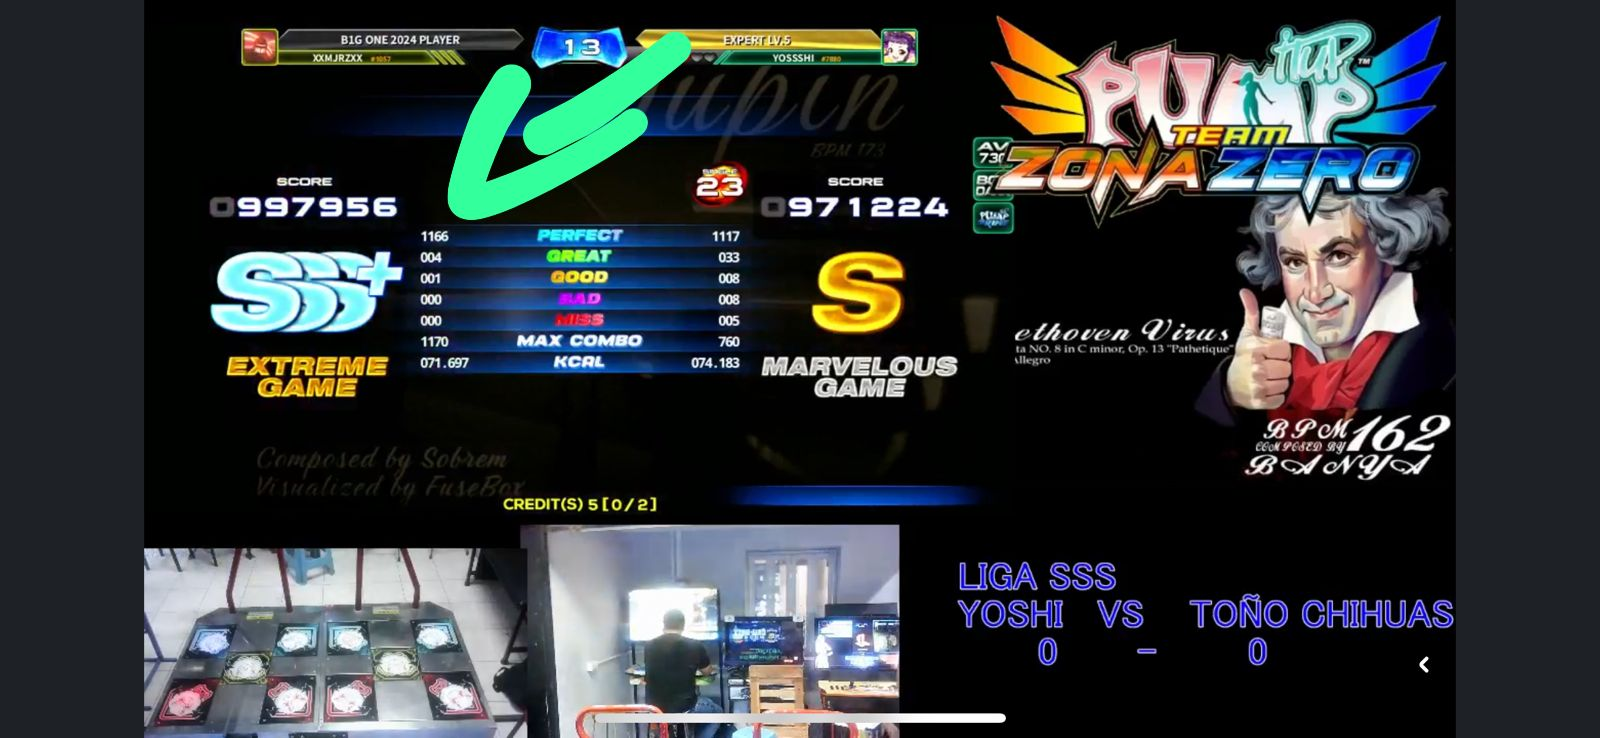difficulty: (698, 161, 751, 201)
fullscore: (546, 15, 1021, 493)
rank: (194, 242, 401, 343), (795, 234, 926, 349)
score: (770, 156, 963, 224)
